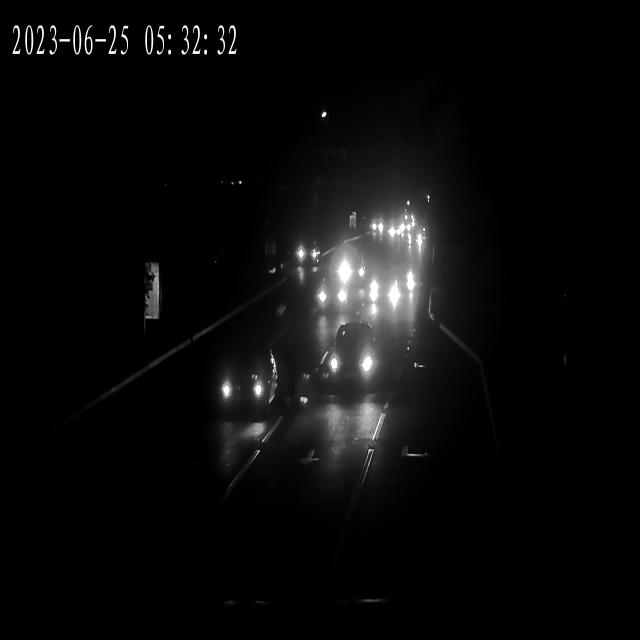Car: (216, 329, 277, 413), (324, 318, 378, 388), (363, 260, 414, 319), (312, 275, 347, 323), (334, 246, 369, 292), (401, 223, 427, 260), (290, 238, 319, 271), (385, 217, 414, 243), (361, 212, 385, 232)
